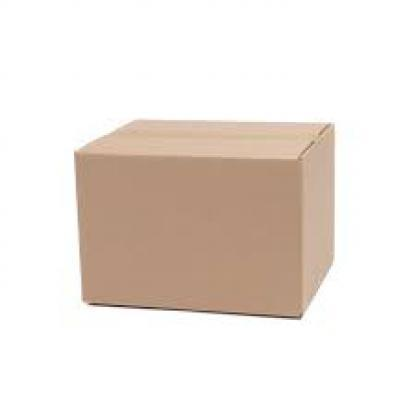package: (71, 116, 343, 320)
